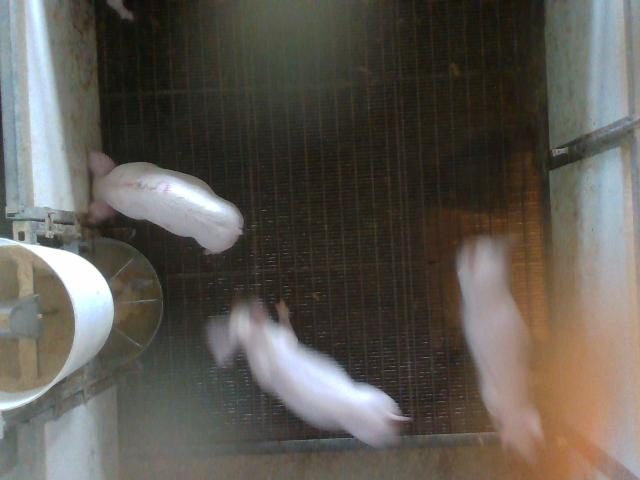pig-3: (89, 152, 244, 254)
